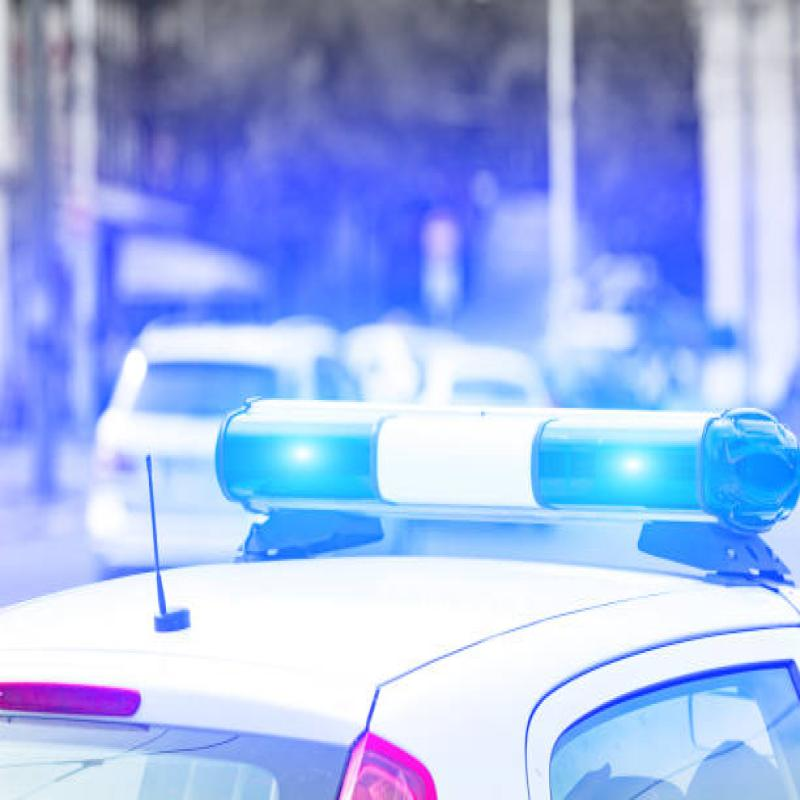AmbulanceSiren: (195, 355, 800, 561)
